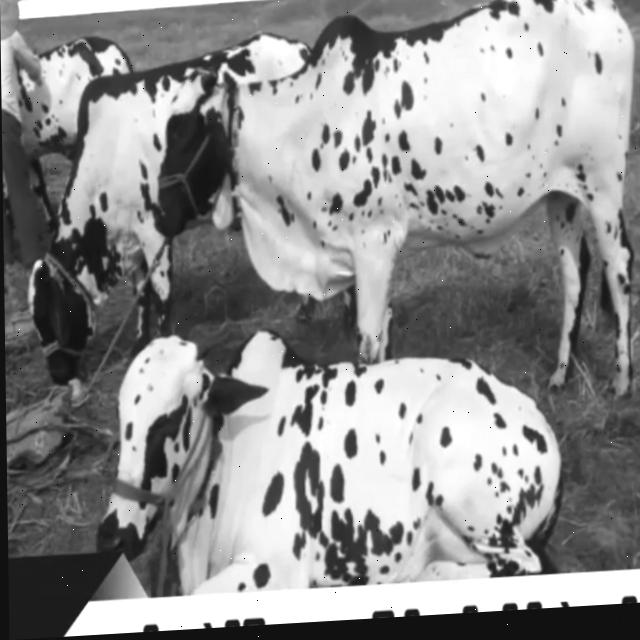Cow: (93, 309, 565, 601)
